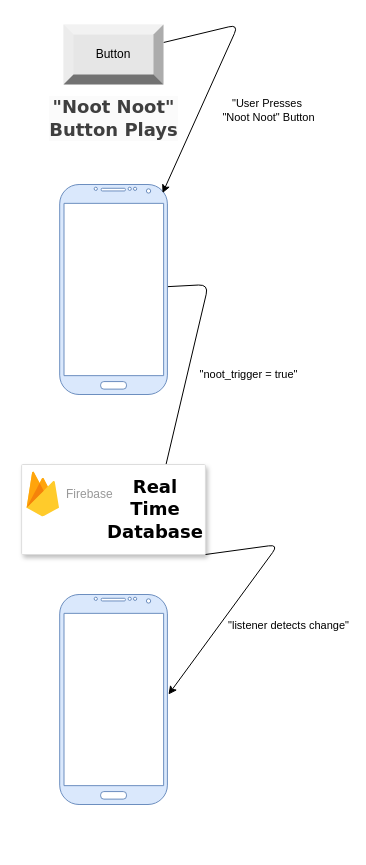
Some shapes in this 366 by 865 pixel diagram are drawn without their labels. The centre of each missing label's shape, as x and y in pixels:
Phone A: [113,289]
Phone B: [113,699]
